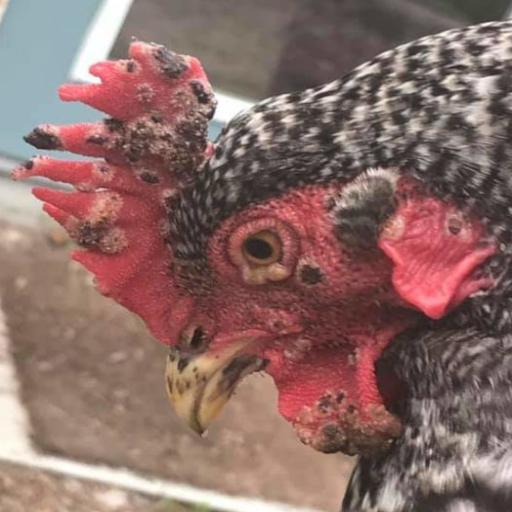disease: (82, 44, 224, 188), (8, 110, 138, 262), (286, 382, 412, 467), (241, 291, 335, 368), (223, 248, 337, 308), (432, 195, 482, 263)
